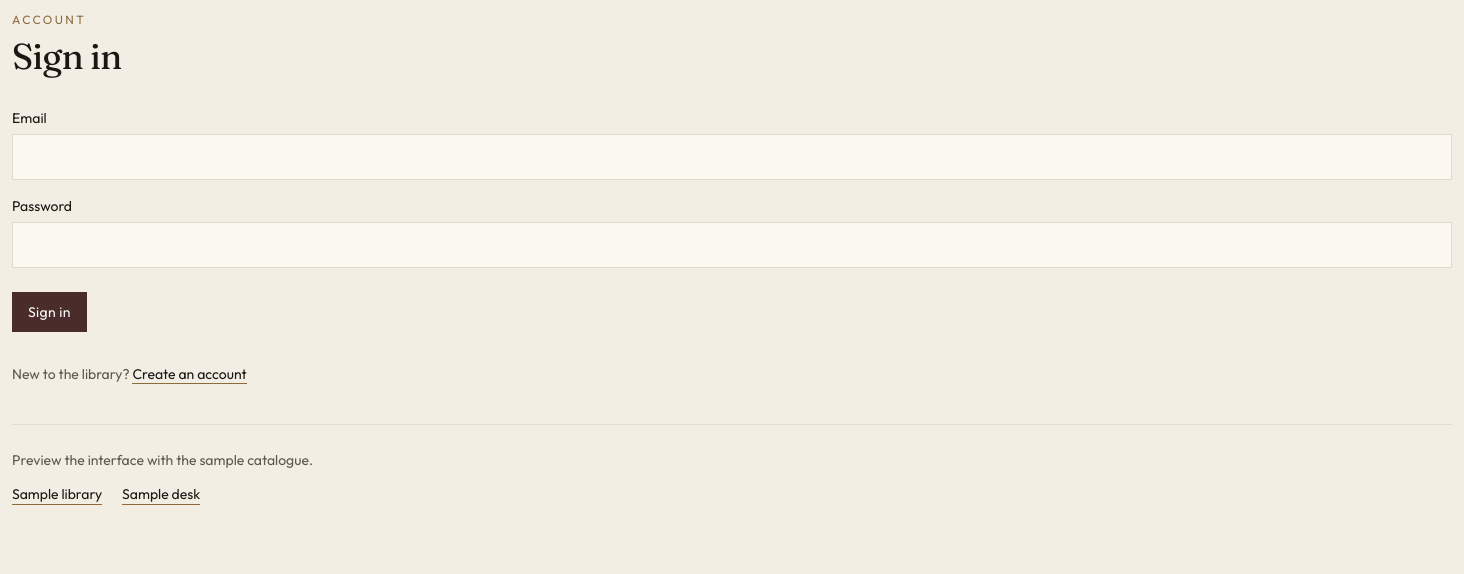
Test: sign in › shows field errors and does not pretend an account was checked
Click the button "Sign in" at [49, 312], box [12, 292, 87, 332]
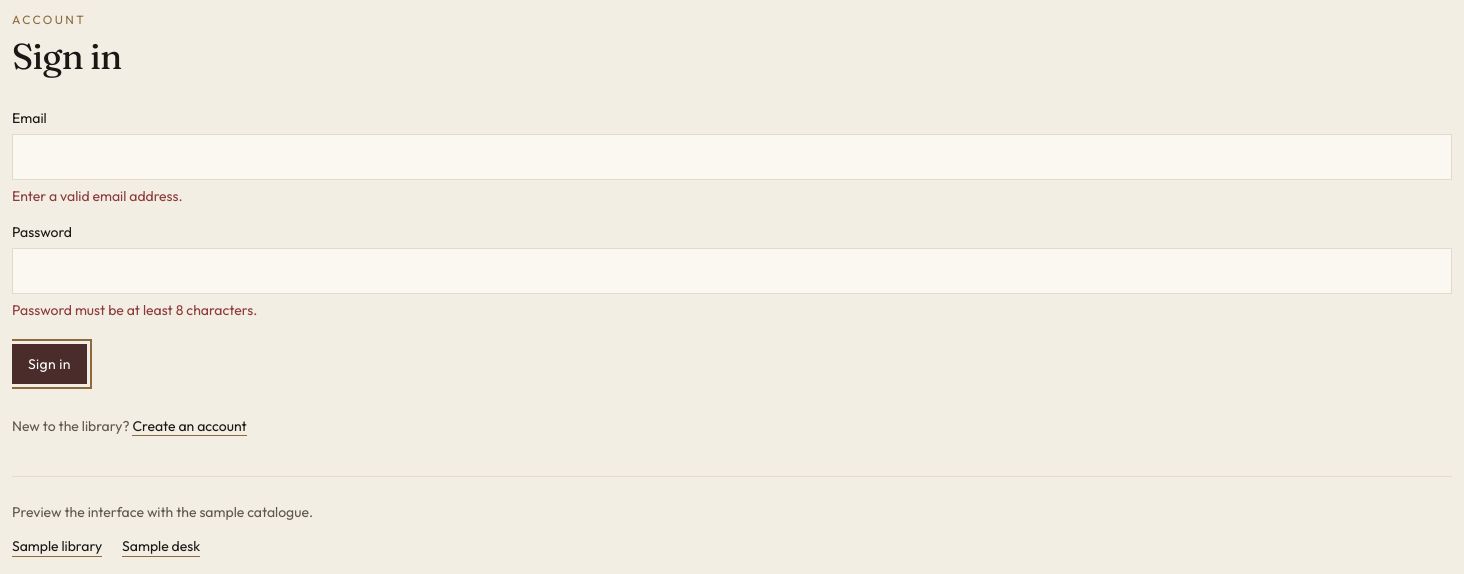
expect the text "Enter a valid email address." is shown: met, box [12, 187, 183, 205]
